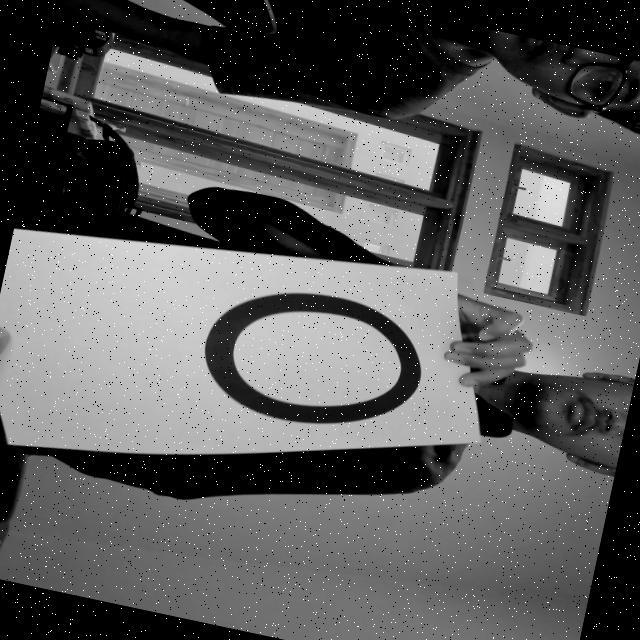o: (177, 247, 455, 459)
